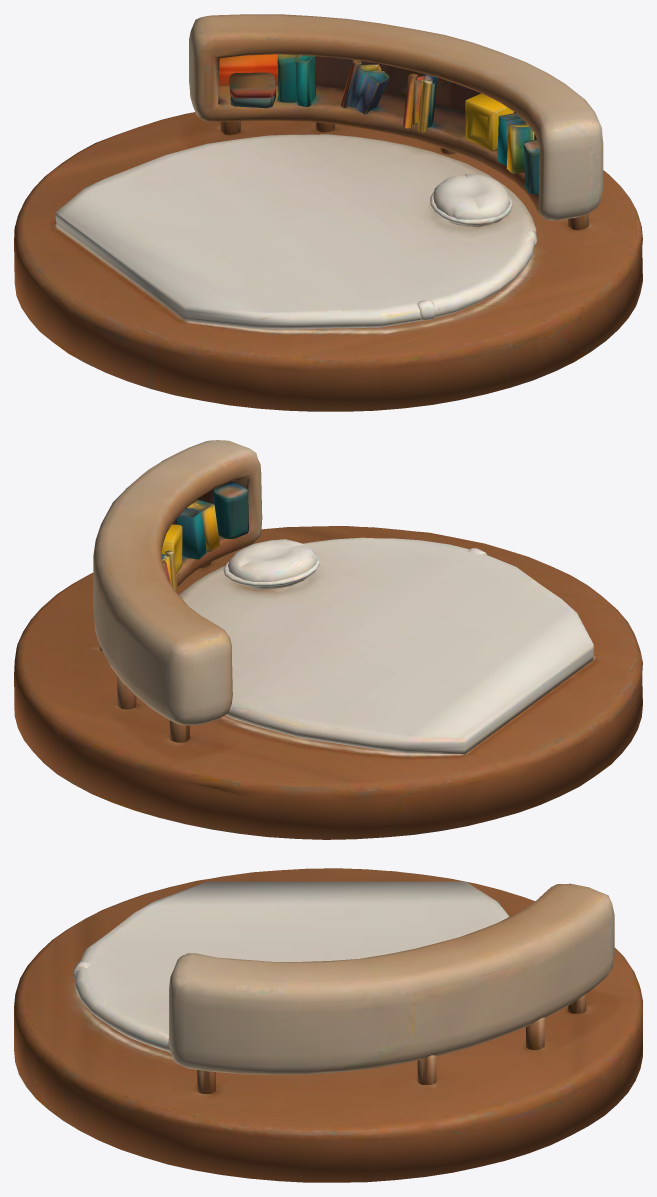
Rendered from base-study.06edde5c.glb.
3 renders of one model, top to bottom at view 1: azimuth 30°, elevation 25°; view 2: azimuth 150°, elevation 25°; view 3: azimuth 270°, elevation 25°, orthographic.
Visible parts, largest first — view 1: tripo_node_5e3183e7-18a4-4402-b200-bf31ed1fd66b; view 2: tripo_node_5e3183e7-18a4-4402-b200-bf31ed1fd66b; view 3: tripo_node_5e3183e7-18a4-4402-b200-bf31ed1fd66b.
Boxes of the visible parts, x1,y1,x2,y2 form: tripo_node_5e3183e7-18a4-4402-b200-bf31ed1fd66b: (14, 14, 642, 411); tripo_node_5e3183e7-18a4-4402-b200-bf31ed1fd66b: (14, 440, 642, 839); tripo_node_5e3183e7-18a4-4402-b200-bf31ed1fd66b: (14, 868, 642, 1182).
Bounding box in the file's own units: 0.998 × 0.2988 × 0.998.
Materials: 1 (1 with a texture image).
